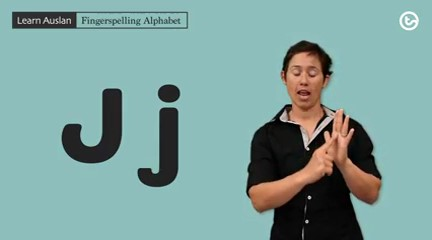J: (300, 103, 365, 192)
